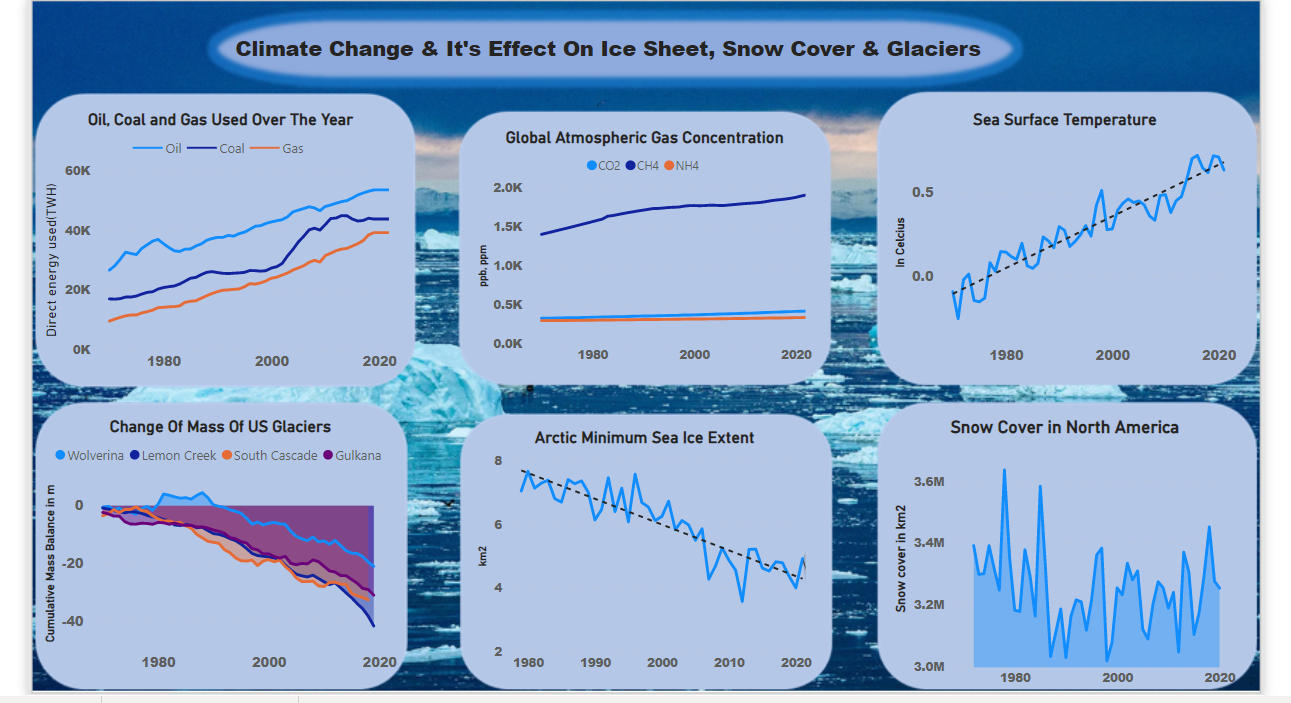

The page's visual inventory and layout, read from the dashboard file:
{"tool":"powerbi","page":{"name":"Page 1","canvas":[1280,720],"ordinal":0},"visuals":[{"type":"areaChart","title":"Change Of Mass Of US Glaciers","fields":{"Category":["needed.year "],"Y":["Sum(needed.mass glacier for wolverina)","Sum(needed.mass u.s glacier for lemon creek)","Sum(needed.mass u.s. glacier for south cascade)","Sum(needed.Mass U.S. glaciers for gulkana)"]},"box":[12.9,431,375.5,273.5],"z":0},{"type":"lineChart","title":"Sea Surface Temperature","fields":{"Category":["needed.year "],"Y":["Sum(needed.sea tem)"]},"box":[891.6,113.5,363.9,273.5],"z":1000},{"type":"lineChart","title":"Oil, Coal and Gas Used Over The Year ","fields":{"Category":["needed.year "],"Y":["Sum(needed.Oil (TWh; direct energy))","Sum(needed.Coal (TWh; direct energy))","Sum(needed.Gas (TWh; direct energy))"]},"box":[12.9,113.5,375.5,281.3],"z":2000},{"type":"lineChart","title":"Arctic Minimum Sea Ice Extent","fields":{"Category":["needed.year "],"Y":["Sum(needed.aetic ice sea)"]},"box":[460.6,442.6,357.4,261.9],"z":3000},{"type":"stackedAreaChart","title":" Snow Cover in North America","fields":{"Category":["needed.year "],"Y":["Sum(needed.north america snow cover)"]},"box":[891.6,431,363.9,289],"z":4000},{"type":"textbox","box":[201.3,29.7,798.7,41.3],"z":5001},{"type":"lineChart","title":"Global Atmospheric Gas Concentration","fields":{"Category":["needed.year "],"Y":["Sum(needed.CO2)","Sum(needed.CH4)","Sum(needed.NH4)"]},"box":[460.6,132.9,357.4,254.2],"z":5002}]}

Visuals, with their boxes in screenshot pixels (x1, y1, x2, y2):
"Change Of Mass Of US Glaciers" areaChart: {"left": 29, "top": 425, "right": 391, "bottom": 688}
"Sea Surface Temperature" lineChart: {"left": 875, "top": 119, "right": 1225, "bottom": 383}
"Oil, Coal and Gas Used Over The Year " lineChart: {"left": 29, "top": 119, "right": 391, "bottom": 390}
"Arctic Minimum Sea Ice Extent" lineChart: {"left": 460, "top": 436, "right": 804, "bottom": 688}
" Snow Cover in North America" stackedAreaChart: {"left": 875, "top": 425, "right": 1225, "bottom": 702}
textbox: {"left": 211, "top": 39, "right": 979, "bottom": 78}
"Global Atmospheric Gas Concentration" lineChart: {"left": 460, "top": 138, "right": 804, "bottom": 383}
